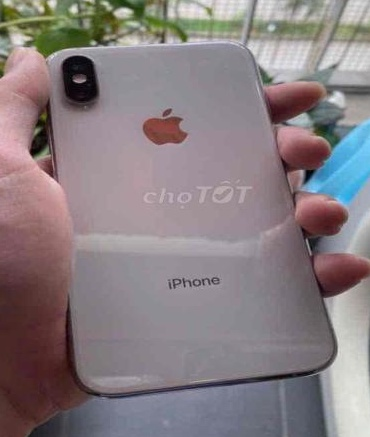scratch: (77, 372, 101, 391), (76, 105, 100, 119)
